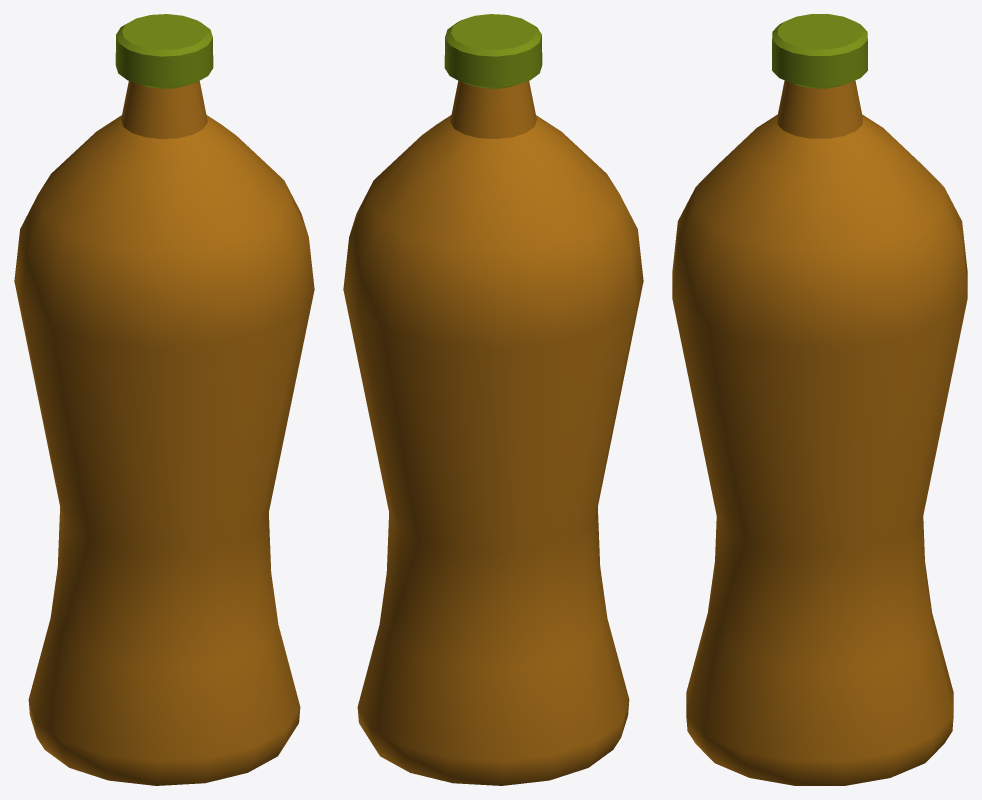
Rendered from Botella_02.fbx.
3 views of the same model, side by side, from view 1: azimuth 30°, elevation 25°; view 2: azimuth 150°, elevation 25°; view 3: azimuth 270°, elevation 25° (orthographic).
Visible parts, largest first — view 1: Botella_02; view 2: Botella_02; view 3: Botella_02.
Part boxes in pixels (<box>): Botella_02: <box>14,14,314,785</box>; Botella_02: <box>343,14,643,785</box>; Botella_02: <box>672,14,967,785</box>.
Size of the model in its own units: 24.56 by 64.34 by 24.56.
